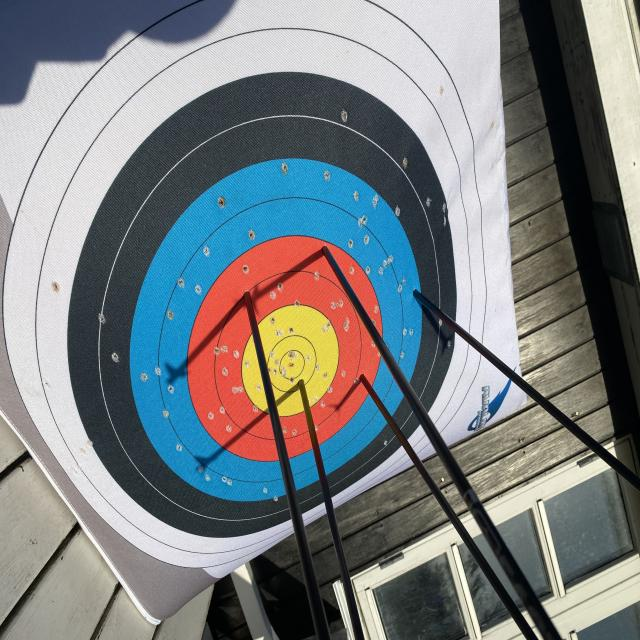Arrow_Blue: (402, 278, 439, 318)
Arrow_Red: (226, 273, 267, 327), (307, 234, 349, 277), (352, 352, 376, 406)
Arrow_Yellow: (286, 360, 316, 408)
